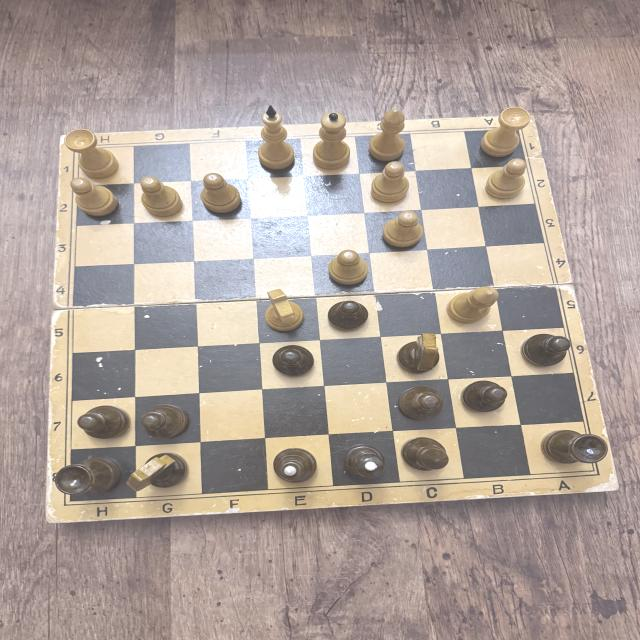black-bishop: (400, 436, 450, 474)
black-king: (270, 447, 318, 484)
black-knight: (122, 454, 189, 492), (394, 334, 442, 375)
black-pawn: (78, 404, 130, 439), (520, 332, 570, 368), (140, 404, 189, 439), (398, 386, 446, 421), (462, 380, 507, 414), (271, 343, 315, 377), (327, 300, 369, 332)
black-queen: (342, 442, 389, 482)
black-rook: (55, 457, 123, 498), (542, 429, 610, 467)
white-bishop: (444, 284, 502, 326), (366, 109, 407, 161)
white-king: (256, 105, 296, 170)
white-knight: (263, 288, 305, 332)
white-pawn: (68, 177, 120, 217), (198, 173, 242, 214), (380, 211, 427, 249), (484, 158, 527, 199), (140, 176, 182, 217), (371, 162, 410, 203), (329, 250, 369, 286)
white-queen: (309, 112, 355, 173)
white-rook: (64, 128, 121, 178), (481, 107, 530, 158)
